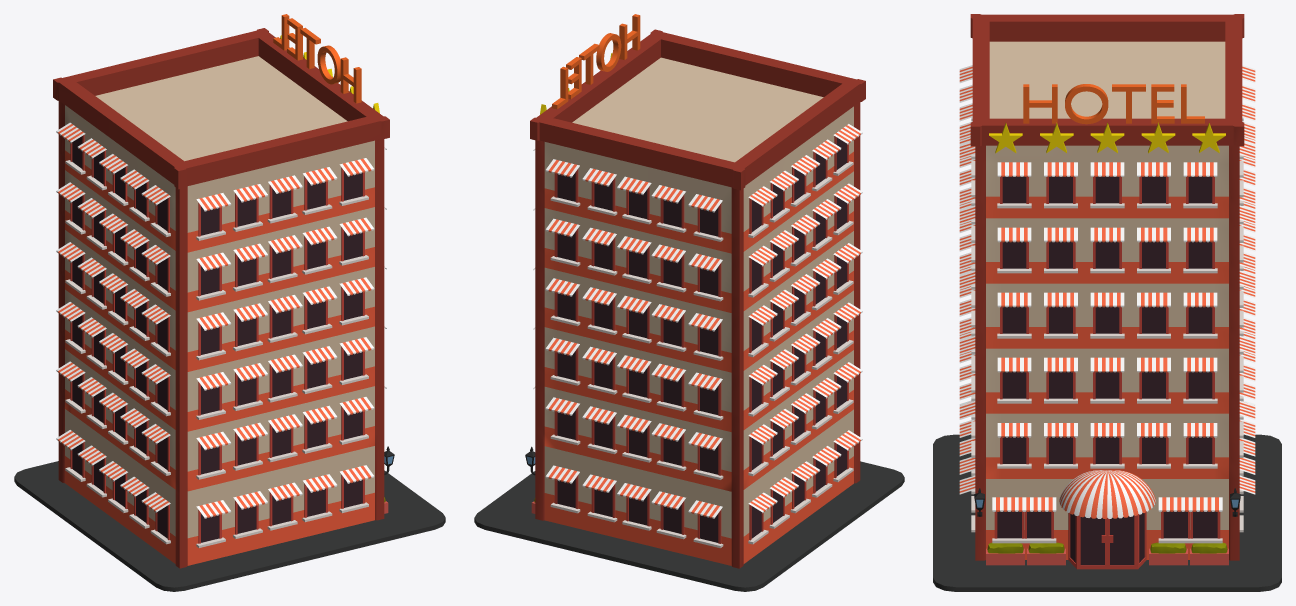
File: PublicBuilding_1.glb
3 renders of one model, left to right at view 1: azimuth 30°, elevation 25°; view 2: azimuth 150°, elevation 25°; view 3: azimuth 270°, elevation 25°, orthographic. The views are drawn at different scales.
Parts seen in each view (by area): view 1: PublicBuilding_1; view 2: PublicBuilding_1; view 3: PublicBuilding_1.
Part boxes in pixels (x1,y1,x2,y2): PublicBuilding_1: (14, 14, 445, 591); PublicBuilding_1: (474, 14, 904, 591); PublicBuilding_1: (933, 14, 1281, 591).
Bounding box in the file's own units: 0.069 × 0.1009 × 0.0667.
1 material, 1 textured.
